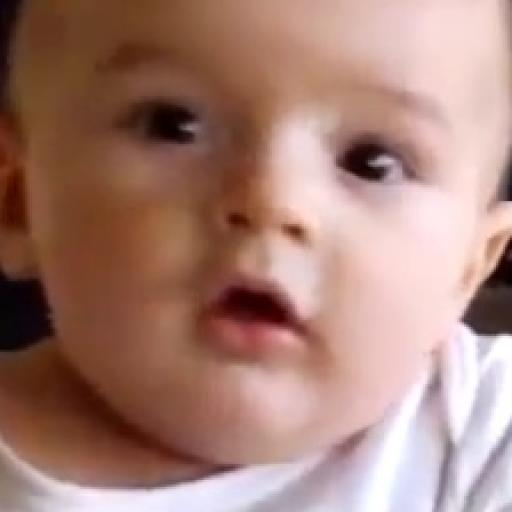Autism: (14, 2, 508, 483)
